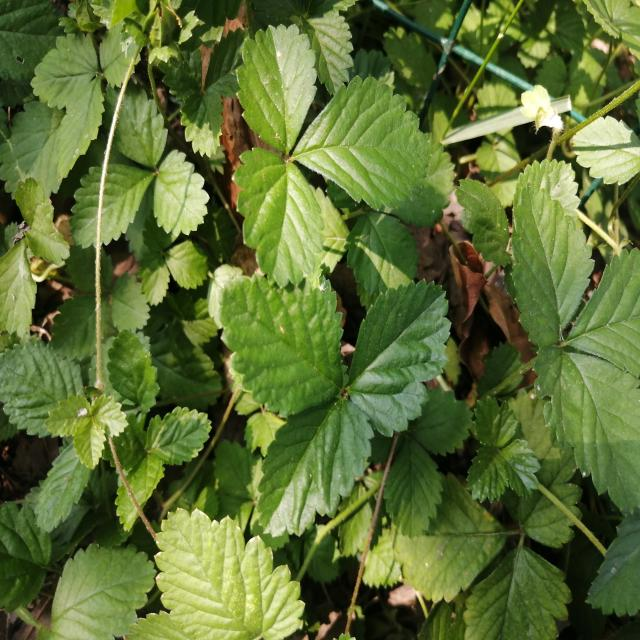Mock_strawberry: (208, 252, 448, 512)
